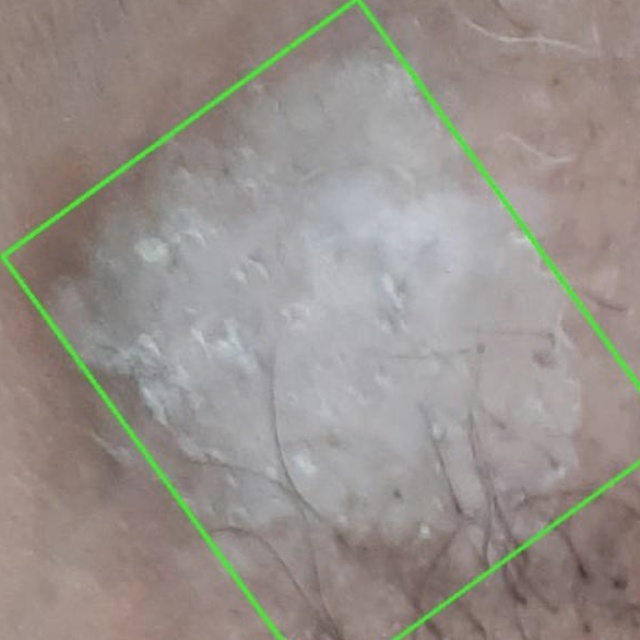Contact Dermatitis: (2, 0, 639, 639)
